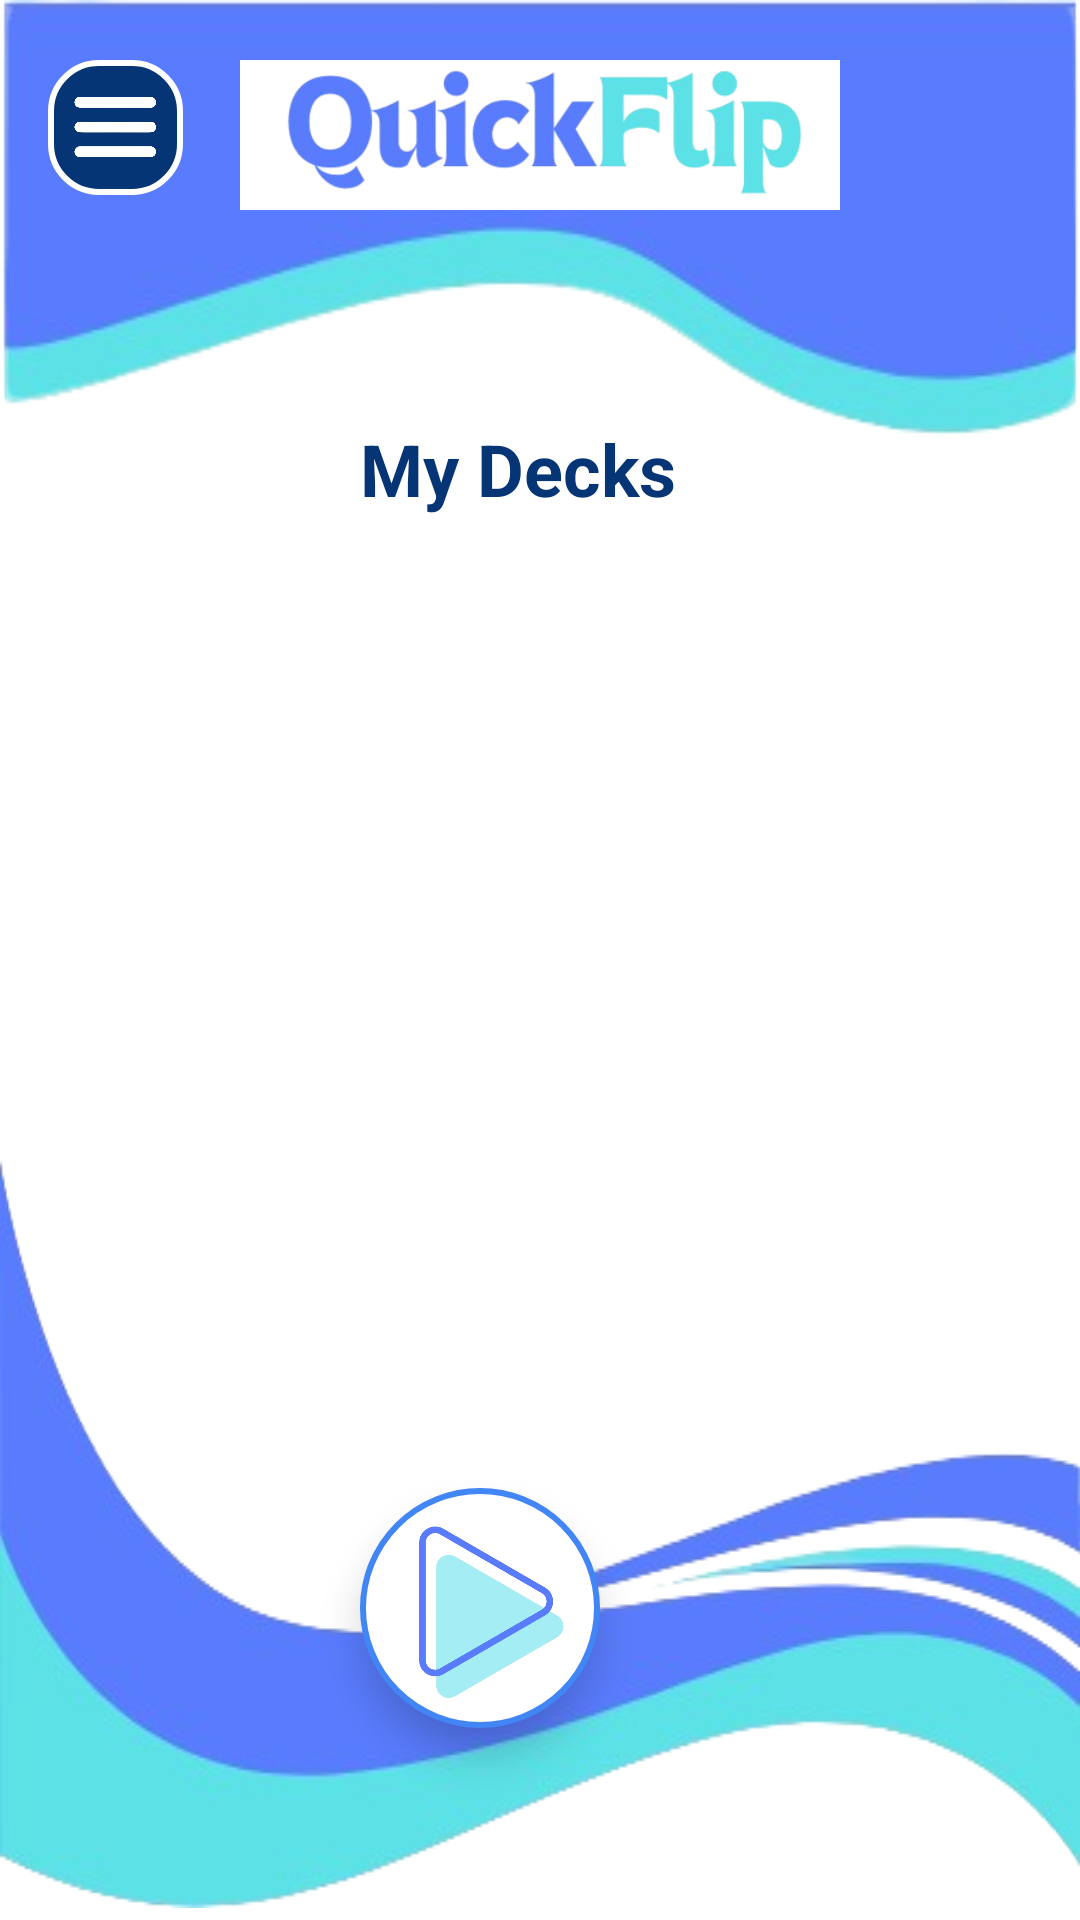

Where to tap for icons on this 1080px x 1920px app screen, as point (x, y):
Drawer: point (115, 127)
quickflipplayicon: point (480, 1608)
